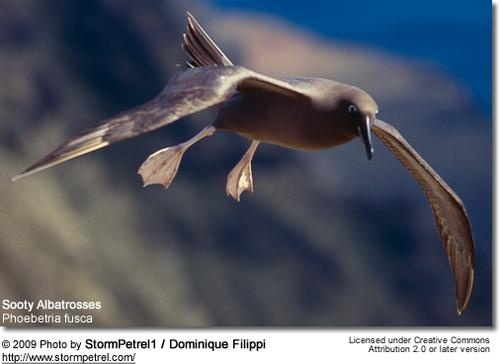bird: (9, 11, 475, 316)
